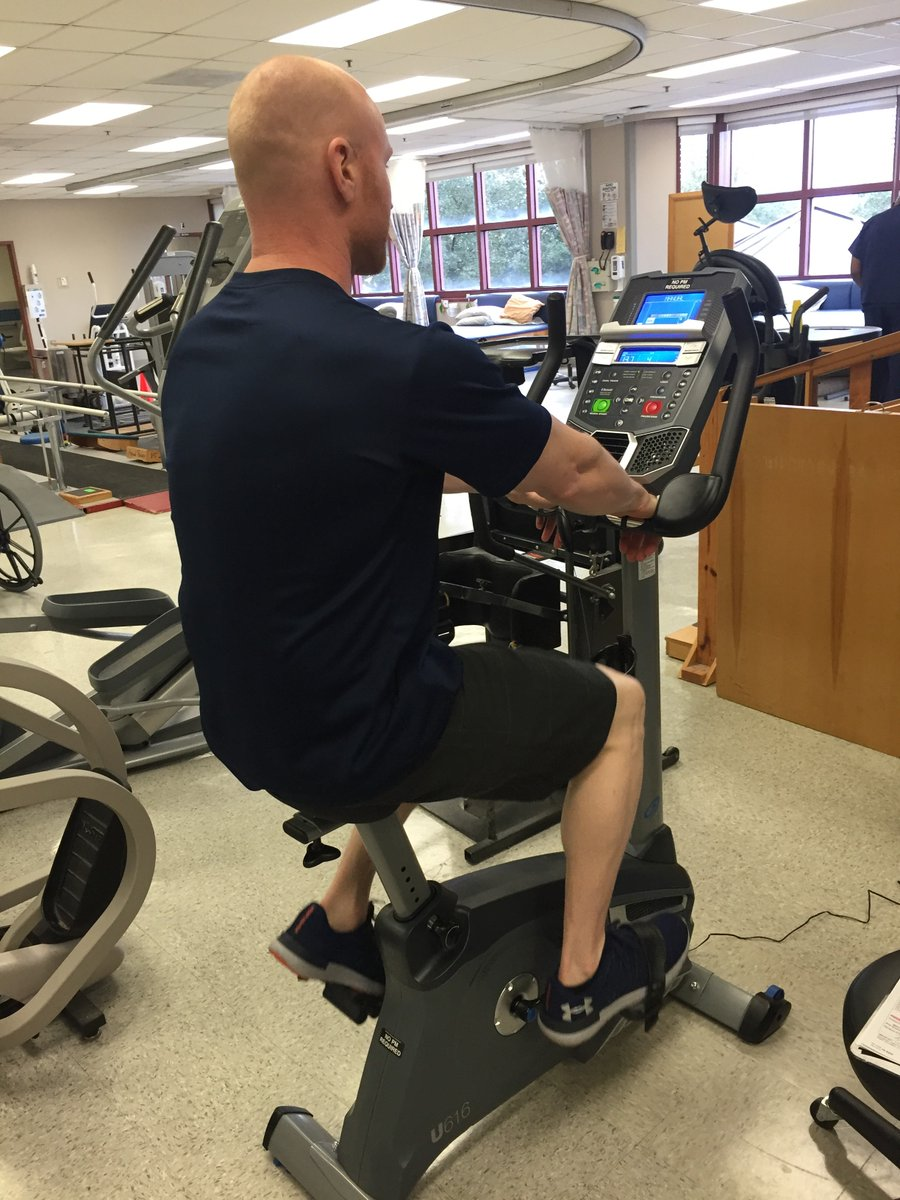gym_bike: (291, 283, 801, 1182)
